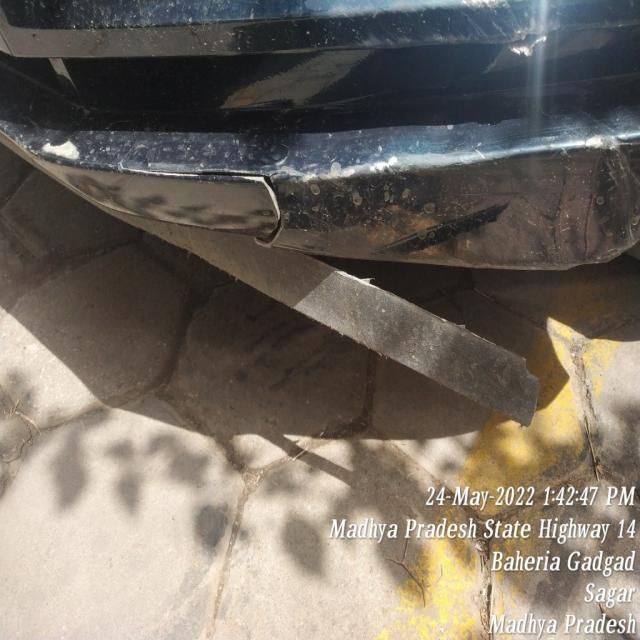damage: (309, 220, 556, 355), (202, 149, 301, 258)
